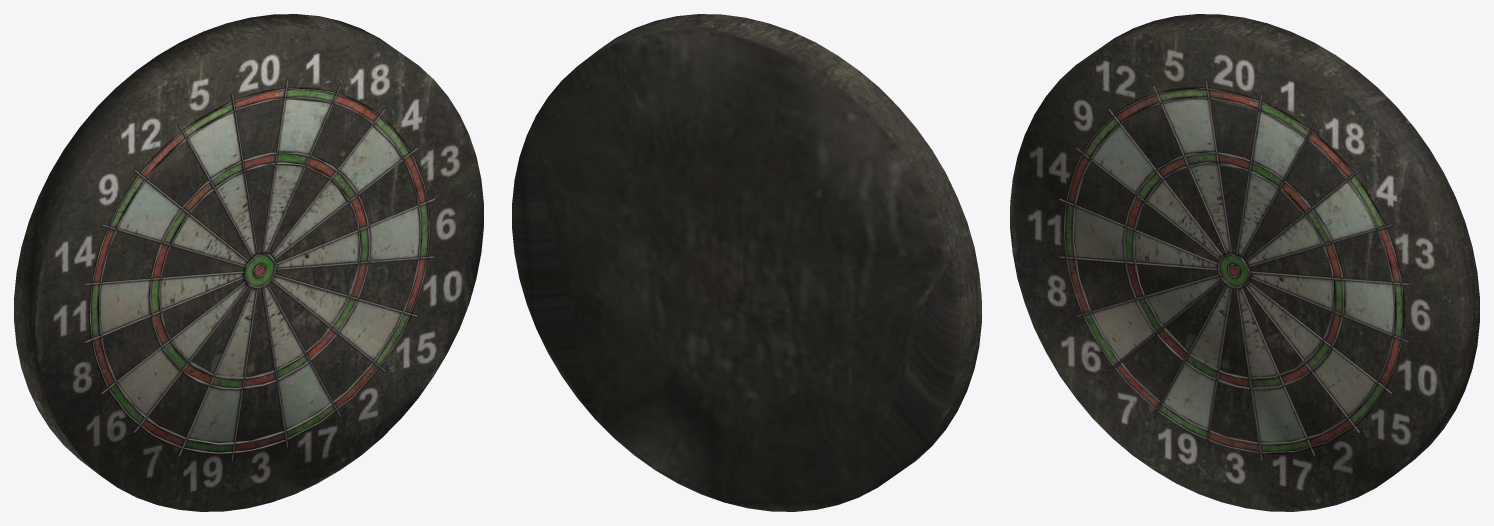
Rendered from dartboard.glb.
The picture shows the model from 3 angles, left to right: view 1: azimuth 30°, elevation 25°; view 2: azimuth 150°, elevation 25°; view 3: azimuth 330°, elevation 25°; orthographic projection.
Visible parts, largest first — view 1: dartboard; view 2: dartboard; view 3: dartboard.
Boxes of the visible parts, x1,y1,x2,y2 form: dartboard: [14, 14, 483, 511]; dartboard: [512, 14, 981, 511]; dartboard: [1010, 14, 1479, 511].
Bounding box in the file's own units: 0.4507 × 0.4507 × 0.0398.
1 material, 1 textured.
